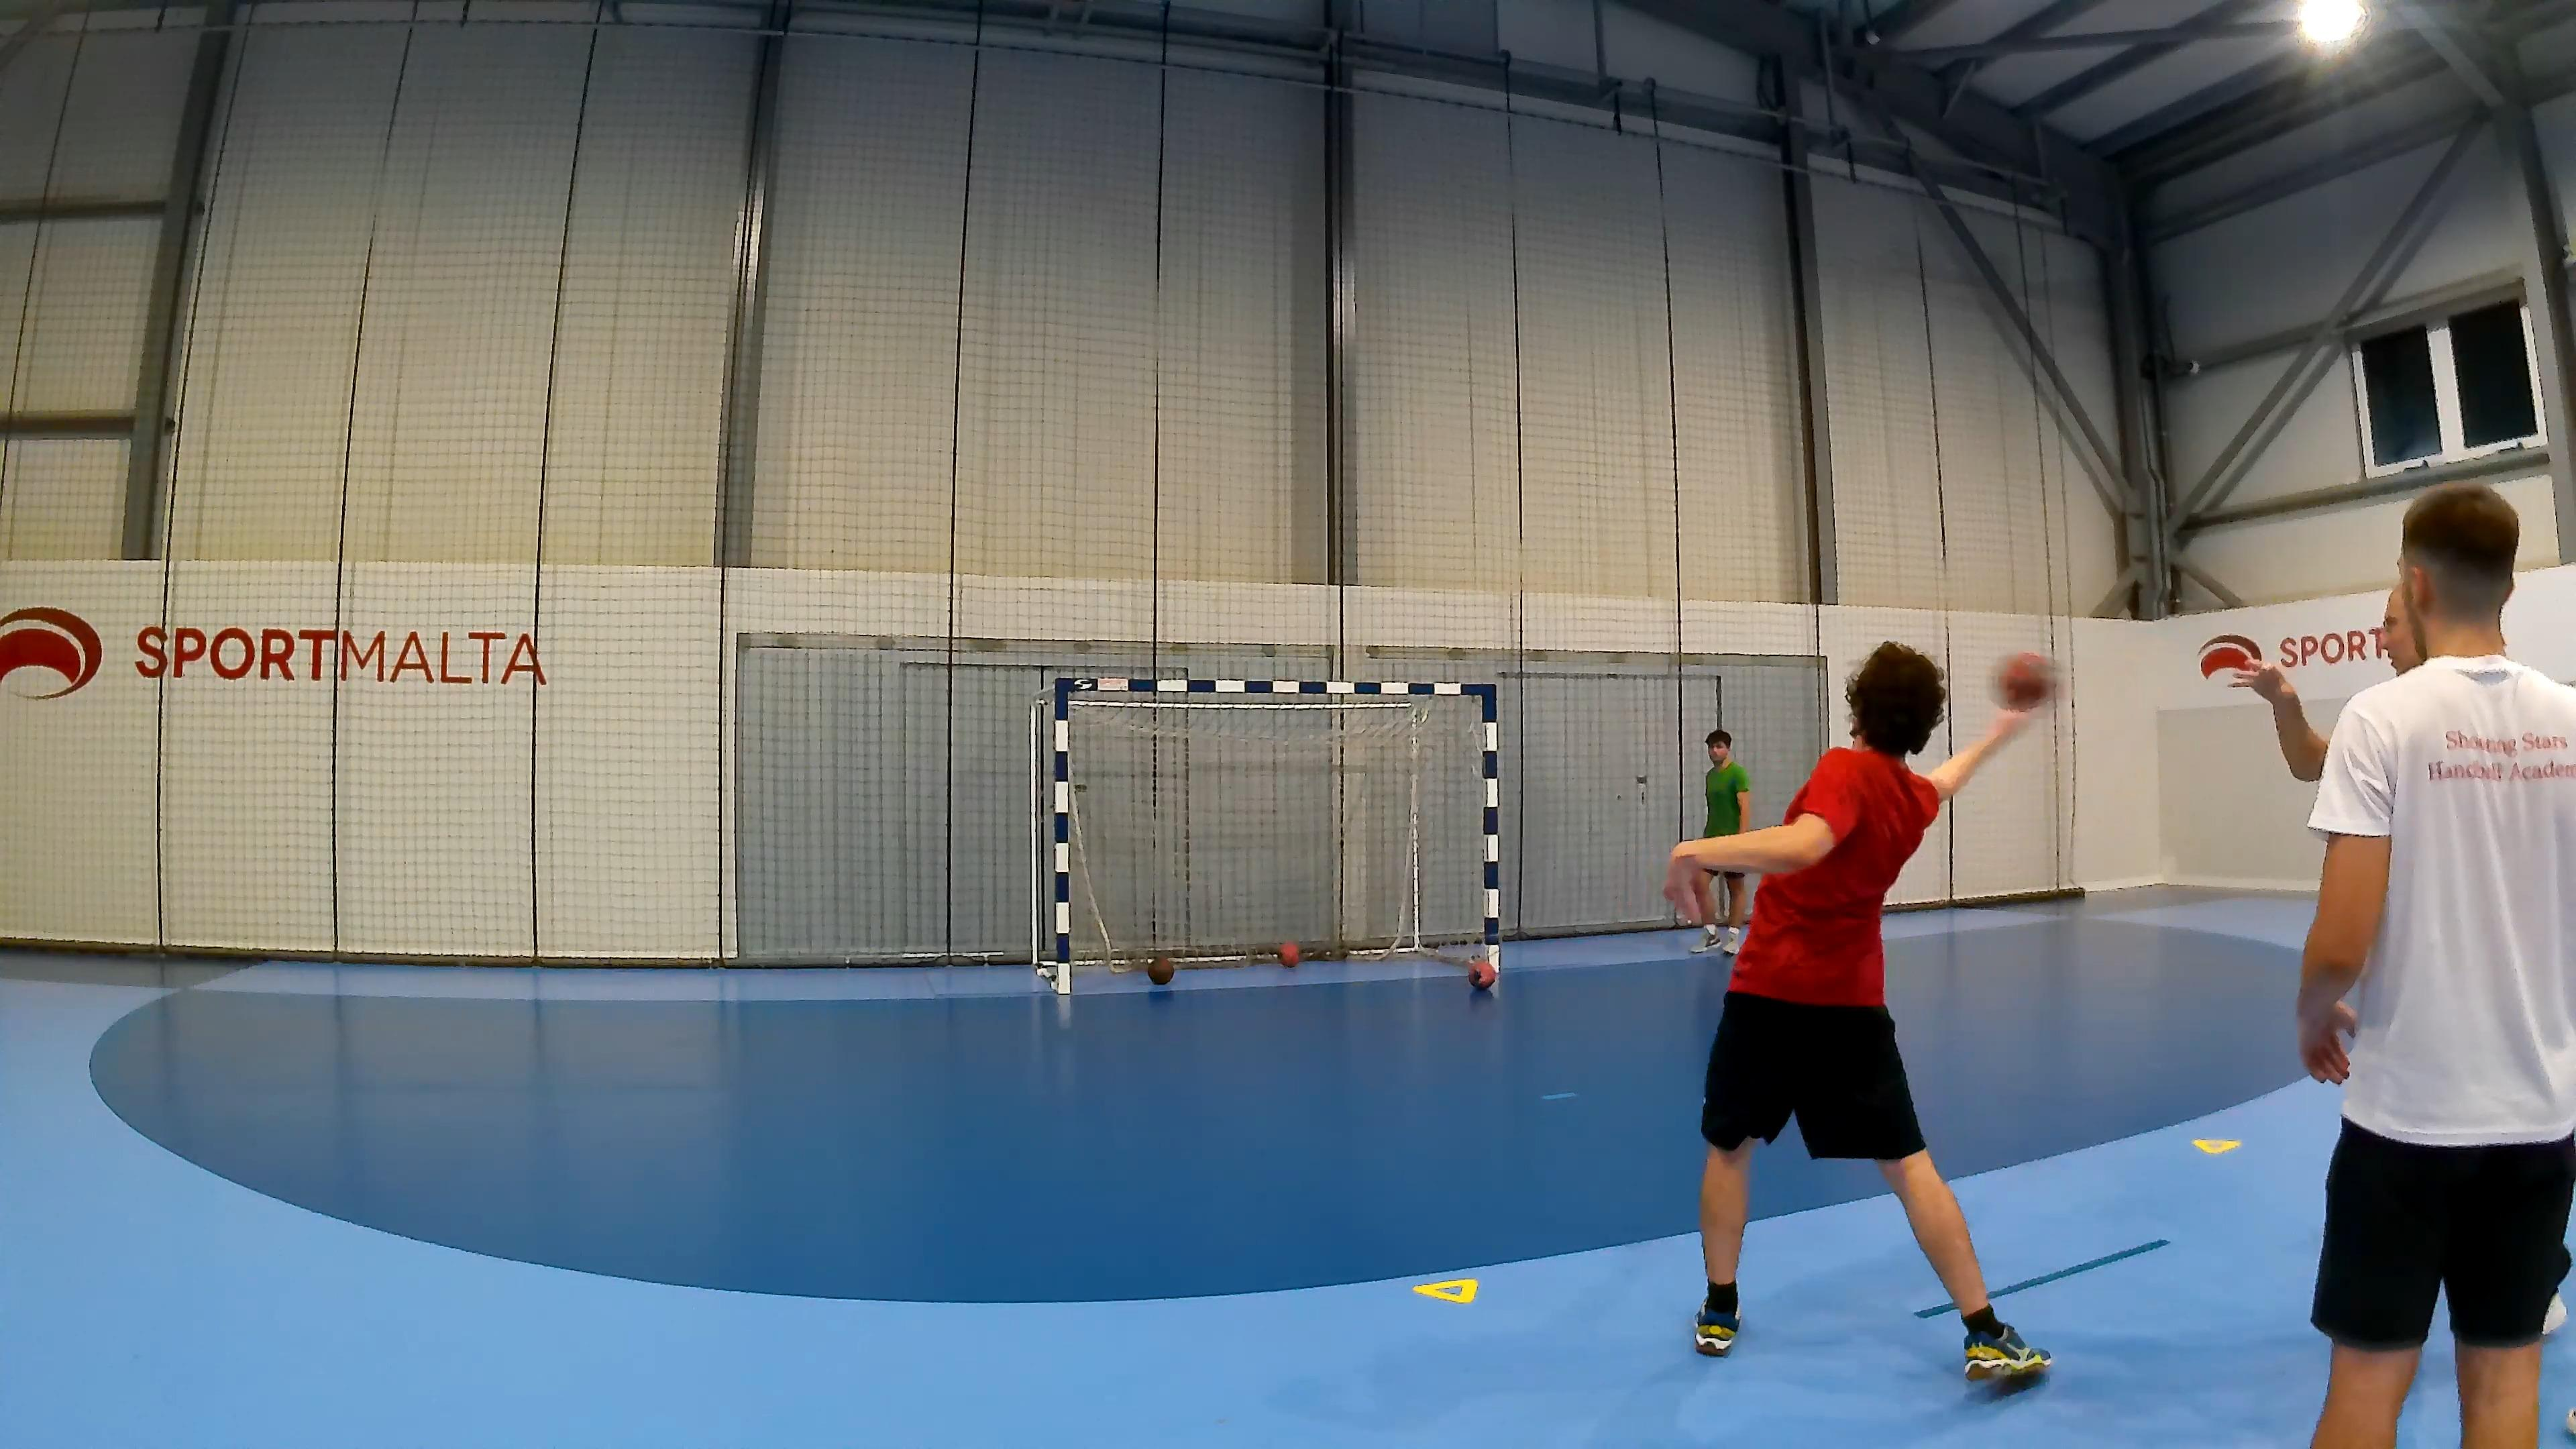handball: (1992, 649, 2059, 711), (1145, 954, 1175, 985), (1272, 939, 1306, 968), (1467, 957, 1495, 989)
